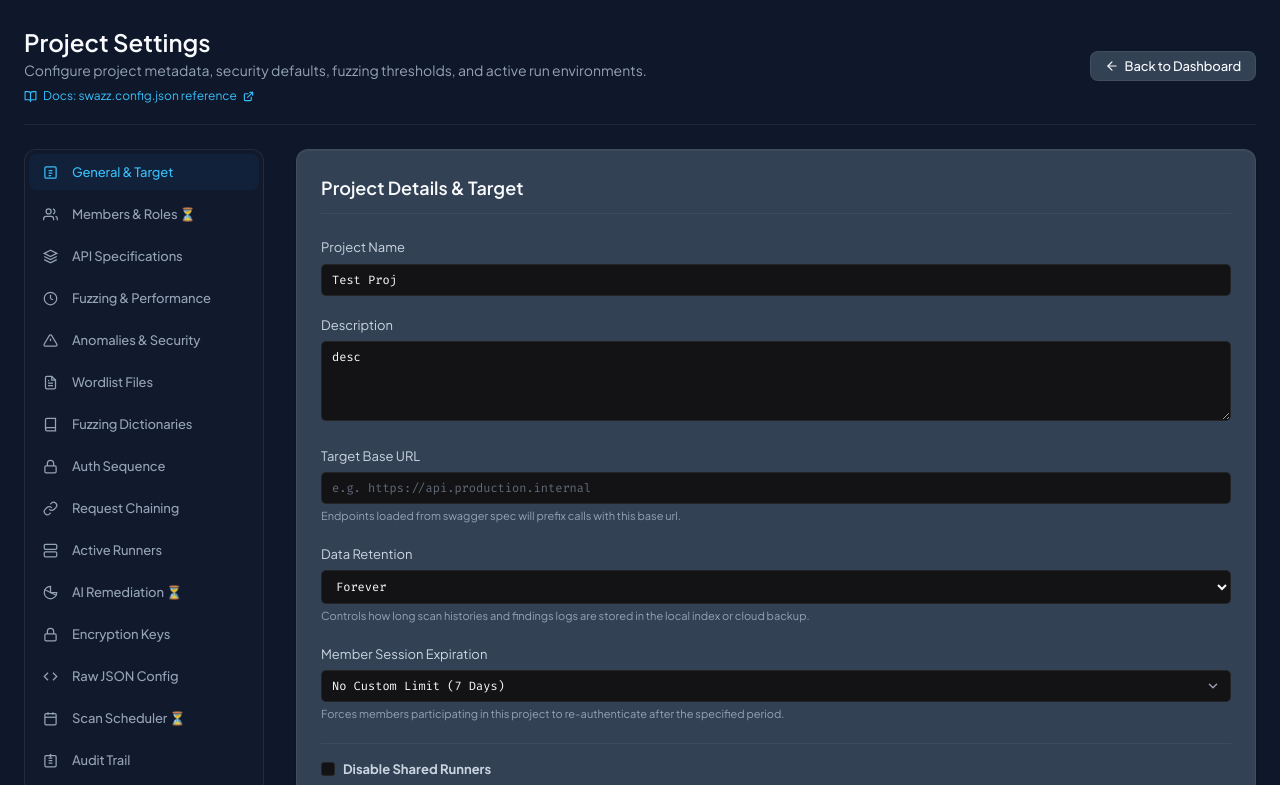
Test: ProjectSettings Component — Runners Tab › renders runners with correct Shared and Private badges
Click on the Active Runners tab button to trigger loading
Click the button "Active Runners" at {"x": 144, "y": 550}, box [29, 532, 259, 568]
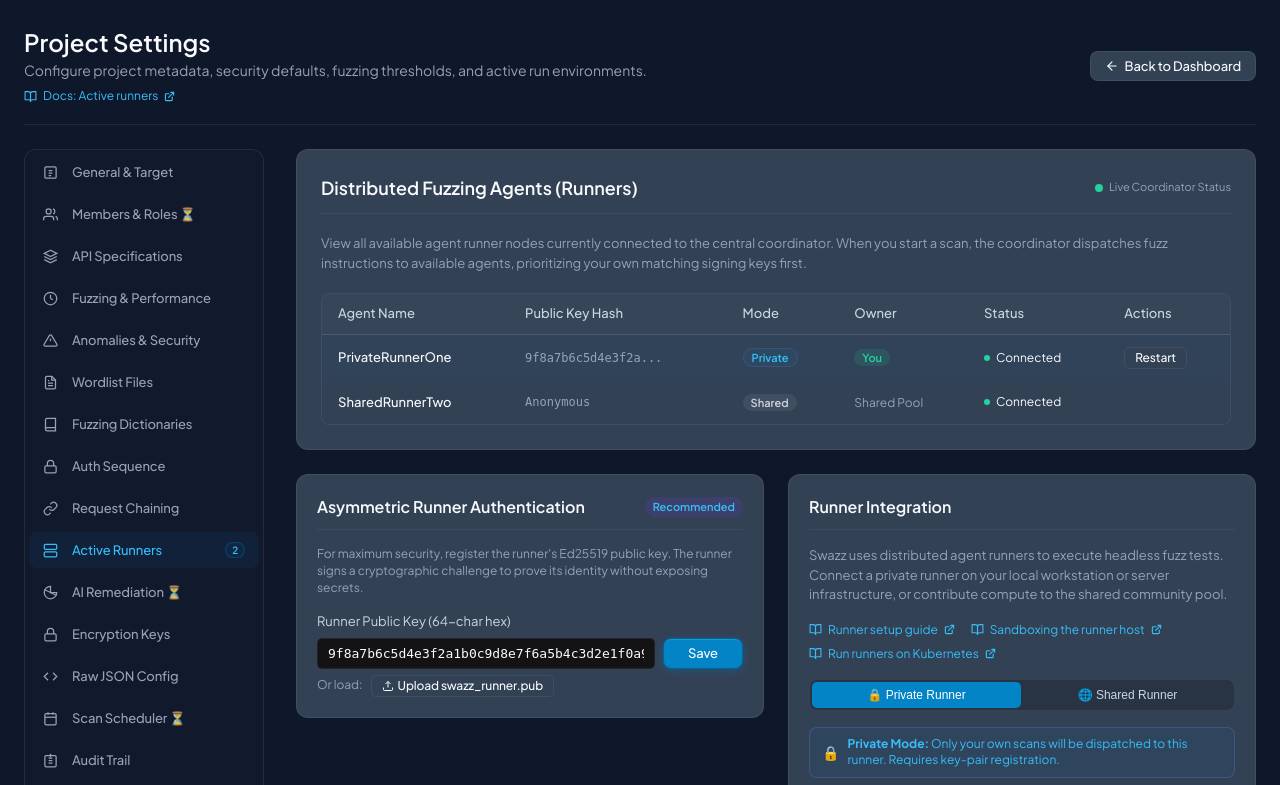
Expected: the text "PrivateRunnerOne" is shown, [338, 348, 452, 367]
Expected: the text "SharedRunnerTwo" is shown, [338, 392, 452, 412]
Expected: the text "Private" is shown, [743, 348, 798, 367]
